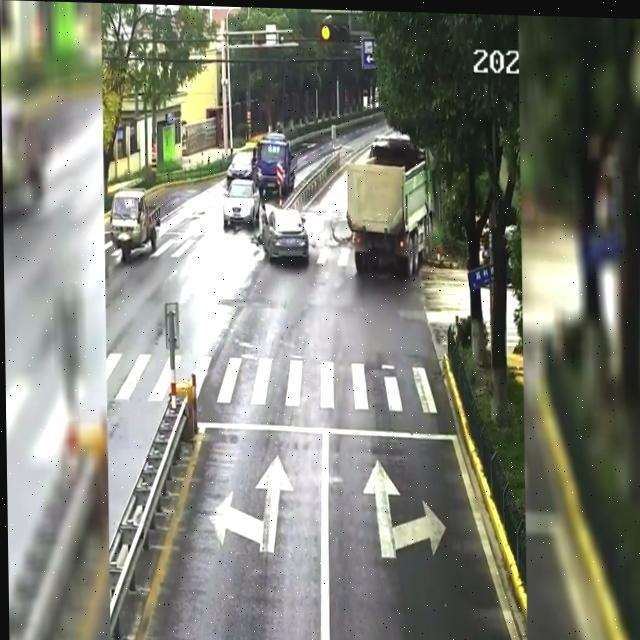multiple_accident: (335, 82, 467, 303), (218, 110, 322, 302)
